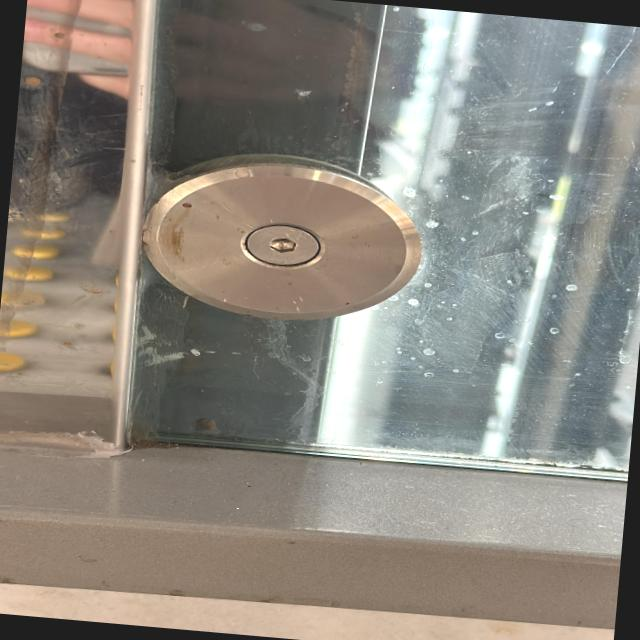Hex Socket Allen: (240, 221, 331, 275)
